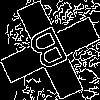B: (25, 25, 75, 80)
